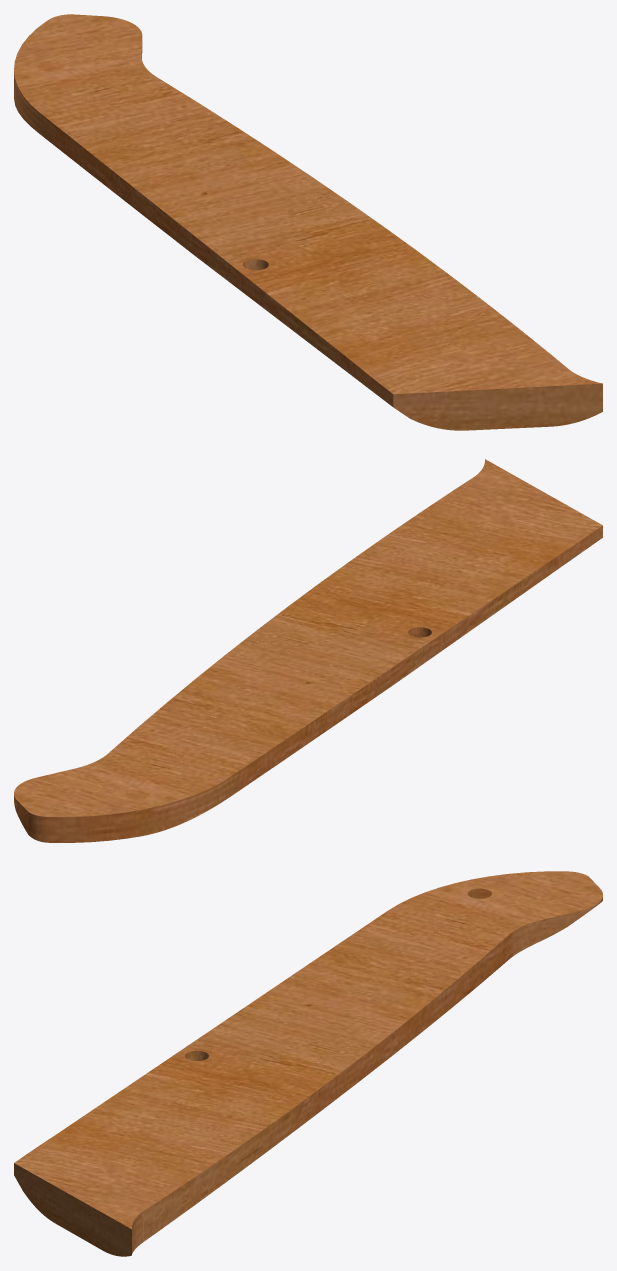
The model's file is original-51.obj.
3 renders of one model, top to bottom at view 1: azimuth 30°, elevation 25°; view 2: azimuth 150°, elevation 25°; view 3: azimuth 330°, elevation 25°, orthographic. The views are drawn at different scales.
Parts seen in each view (by area): view 1: #ID253; view 2: #ID253; view 3: #ID253.
Boxes of the visible parts, x1,y1,x2,y2 form: #ID253: (14, 14, 602, 430); #ID253: (14, 459, 602, 842); #ID253: (14, 871, 602, 1256).
Size of the model in its own units: 0.1567 by 0.0328 by 0.7531.
